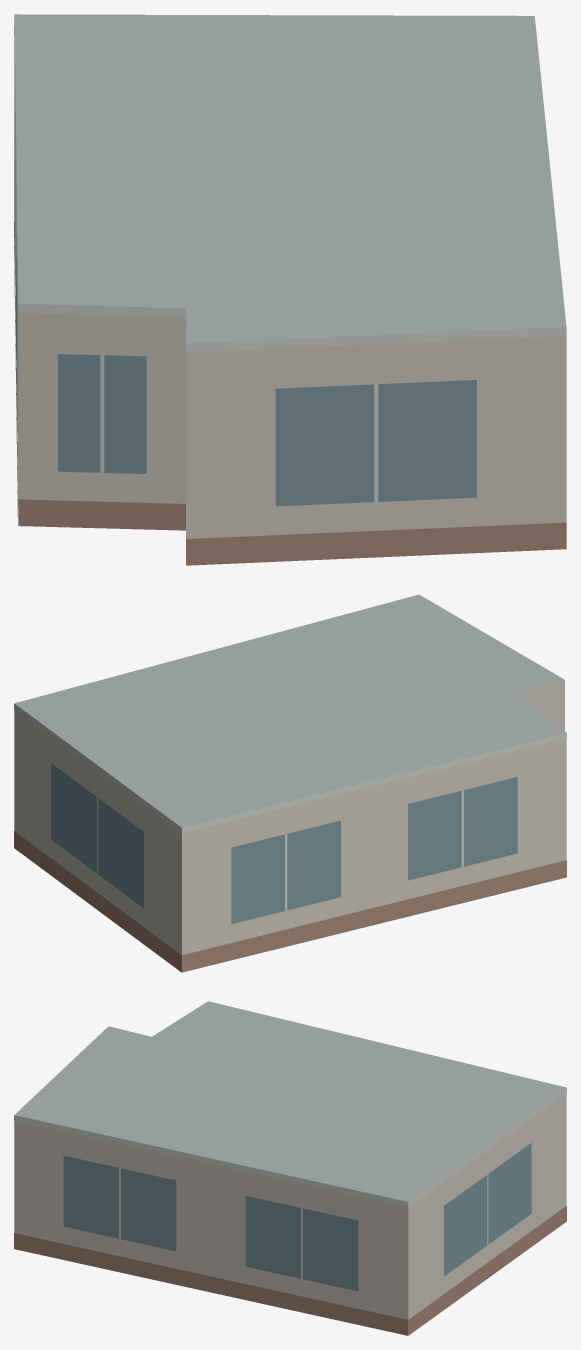
File: survey-upis-32633678.glb
The picture shows the model from 3 angles, top to bottom: view 1: azimuth 30°, elevation 25°; view 2: azimuth 150°, elevation 25°; view 3: azimuth 270°, elevation 25°; orthographic projection. The views are drawn at different scales.
Parts seen in each view (by area): view 1: survey-upis-32633678.tmp; view 2: survey-upis-32633678.tmp; view 3: survey-upis-32633678.tmp.
Part boxes in pixels (<box>): survey-upis-32633678.tmp: <box>14,14,566,565</box>; survey-upis-32633678.tmp: <box>14,594,566,972</box>; survey-upis-32633678.tmp: <box>14,1001,566,1335</box>.
Bounding box in the file's own units: 9.82 × 3.05 × 11.42.
